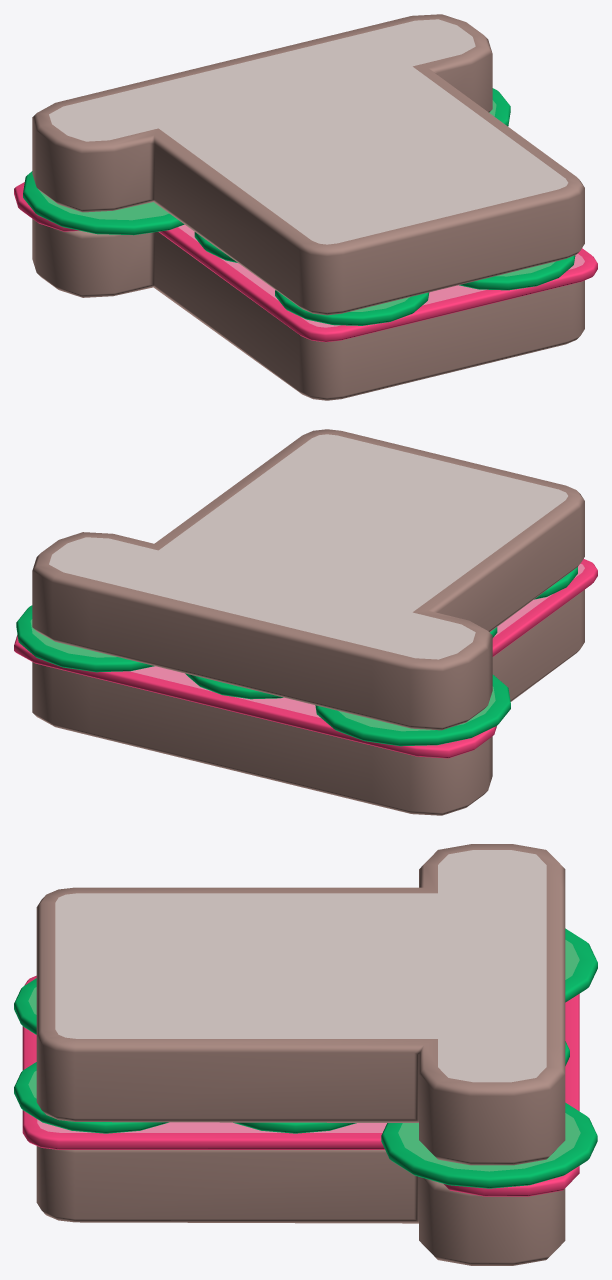
The model's file is Store_18_Sandwich_1.glb.
3 views of the same model, one above another, from view 1: azimuth 30°, elevation 25°; view 2: azimuth 150°, elevation 25°; view 3: azimuth 270°, elevation 25° (orthographic). The views are drawn at different scales.
Visible parts, largest first — view 1: Store_18_Sandwich_1; view 2: Store_18_Sandwich_1; view 3: Store_18_Sandwich_1.
Part boxes in pixels (bbox=[...]): Store_18_Sandwich_1: bbox=[14, 14, 597, 400]; Store_18_Sandwich_1: bbox=[14, 429, 597, 815]; Store_18_Sandwich_1: bbox=[14, 844, 597, 1265].
Bounding box in the file's own units: 0.2342 × 0.0724 × 0.2156.
1 material, 1 textured.
